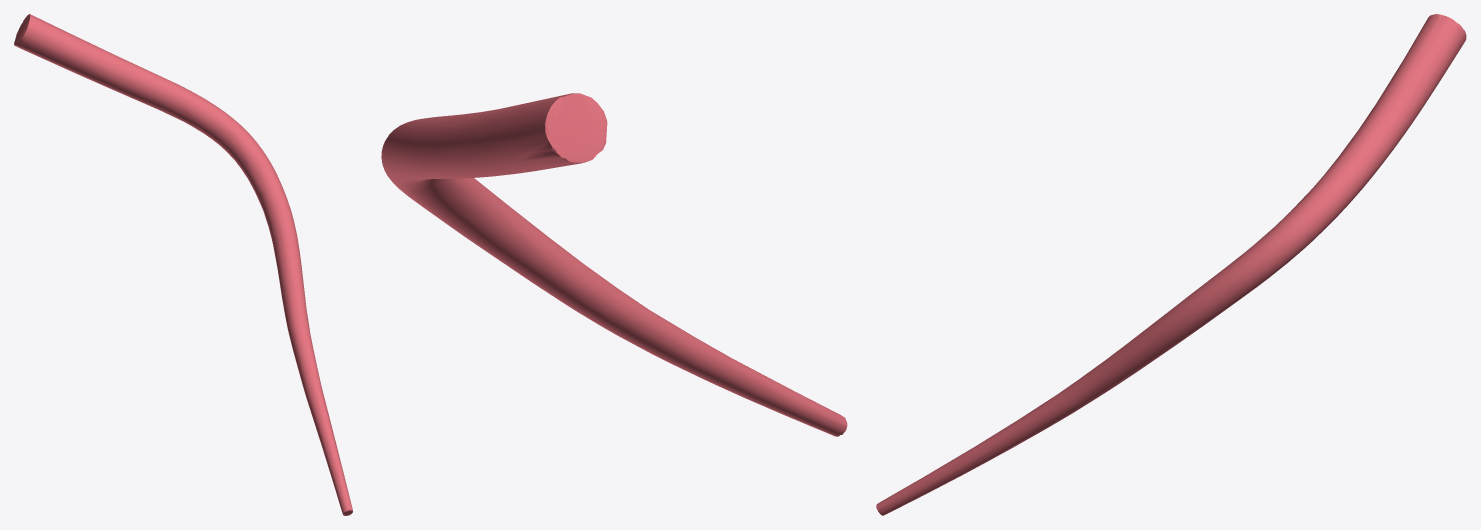
The model's file is fma68134_fj5966.glb.
The picture shows the model from 3 angles, left to right: view 1: azimuth 30°, elevation 25°; view 2: azimuth 150°, elevation 25°; view 3: azimuth 270°, elevation 25°; orthographic projection. The views are drawn at different scales.
Parts seen in each view (by area): view 1: FMA68134_FJ5966; view 2: FMA68134_FJ5966; view 3: FMA68134_FJ5966.
Boxes of the visible parts, <box> form: FMA68134_FJ5966: <box>14,14,352,515</box>; FMA68134_FJ5966: <box>381,93,847,436</box>; FMA68134_FJ5966: <box>876,14,1466,515</box>.
Size of the model in its own units: 0.0466 by 0.089 by 0.1071.
